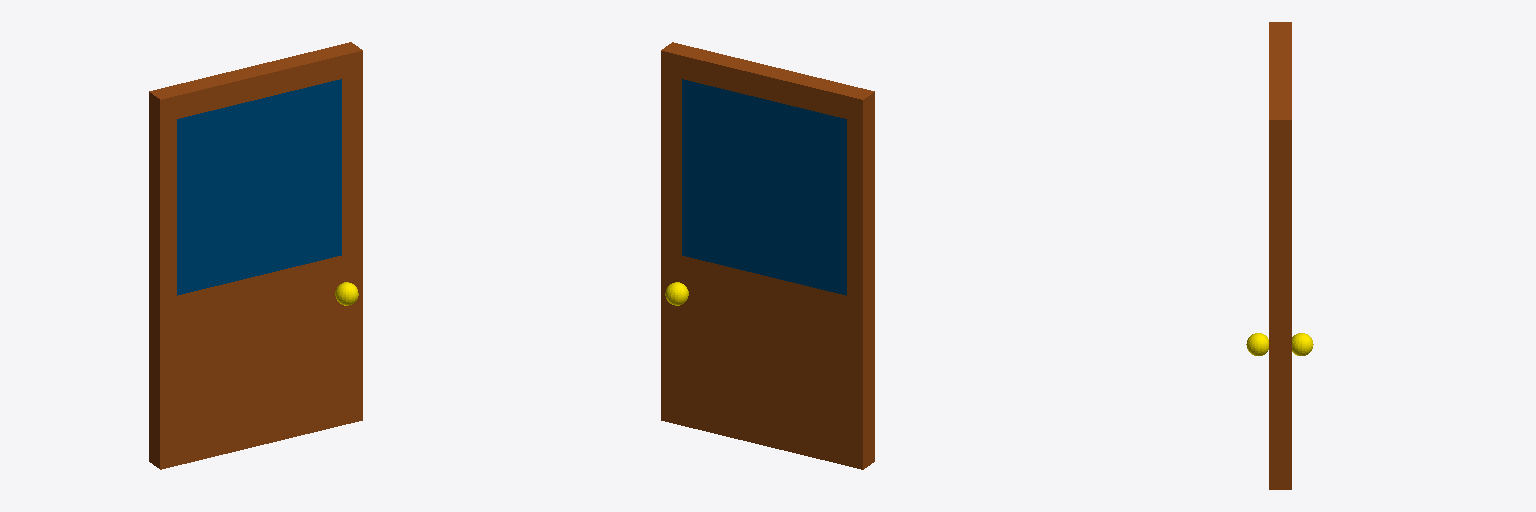
3 views of the same model, side by side, from view 1: azimuth 30°, elevation 25°; view 2: azimuth 150°, elevation 25°; view 3: azimuth 270°, elevation 25° (orthographic).
Parts seen in each view (by area): view 1: polySurface6; view 2: polySurface6; view 3: polySurface6.
Boxes of the visible parts, x1,y1,x2,y2 form: polySurface6: [149, 42, 362, 469]; polySurface6: [661, 42, 874, 469]; polySurface6: [1246, 22, 1313, 489].
Size of the model in its own units: 1 by 1.75 by 0.2869.
2 materials, 2 textured.